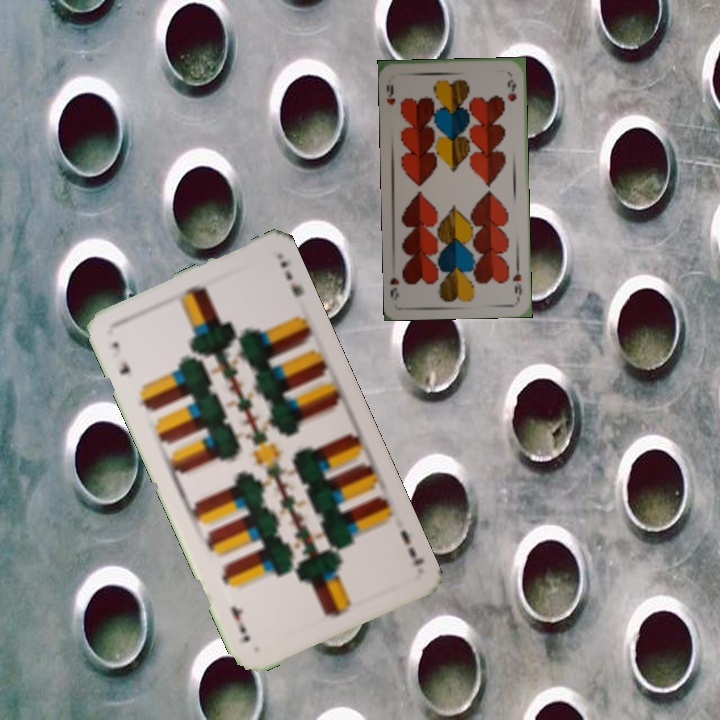E7: (396, 527, 427, 568), (108, 338, 132, 377)
H9: (509, 261, 525, 301), (383, 81, 398, 107)
